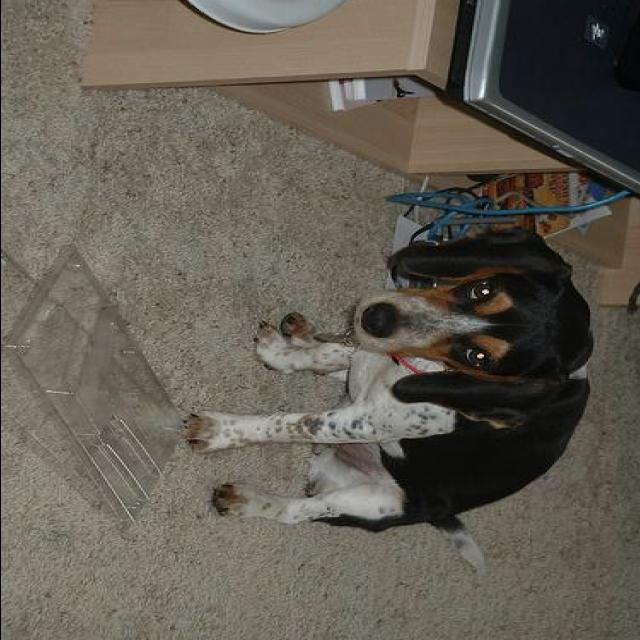beagle: (182, 230, 592, 580)
